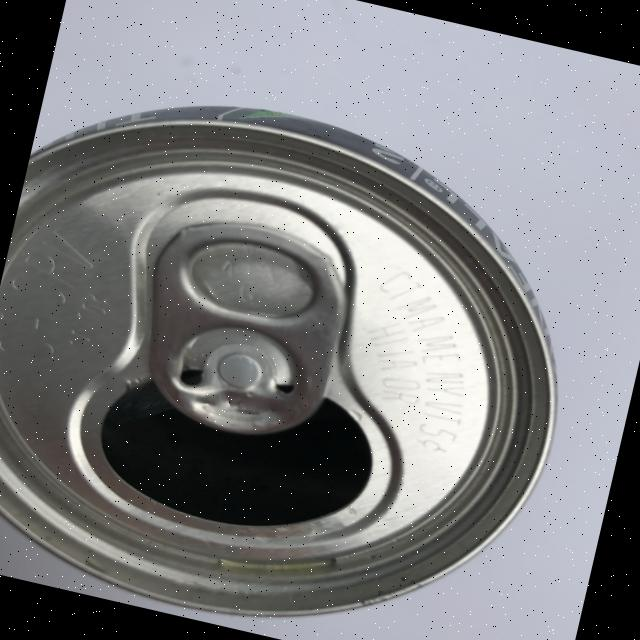metal: (0, 57, 611, 640)
